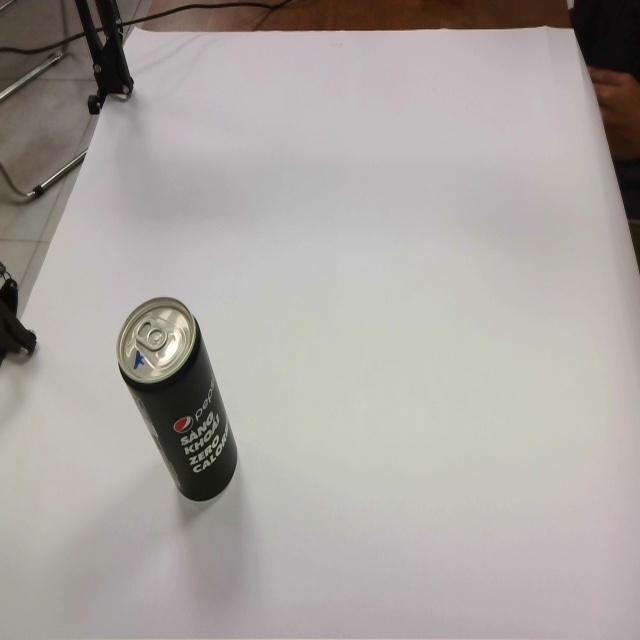debris: (116, 296, 238, 502)
